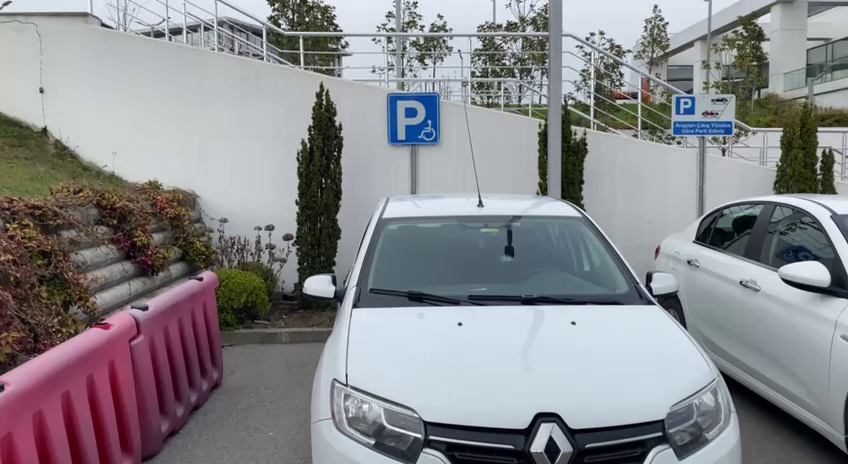parking: (384, 91, 441, 147), (674, 96, 696, 116)
